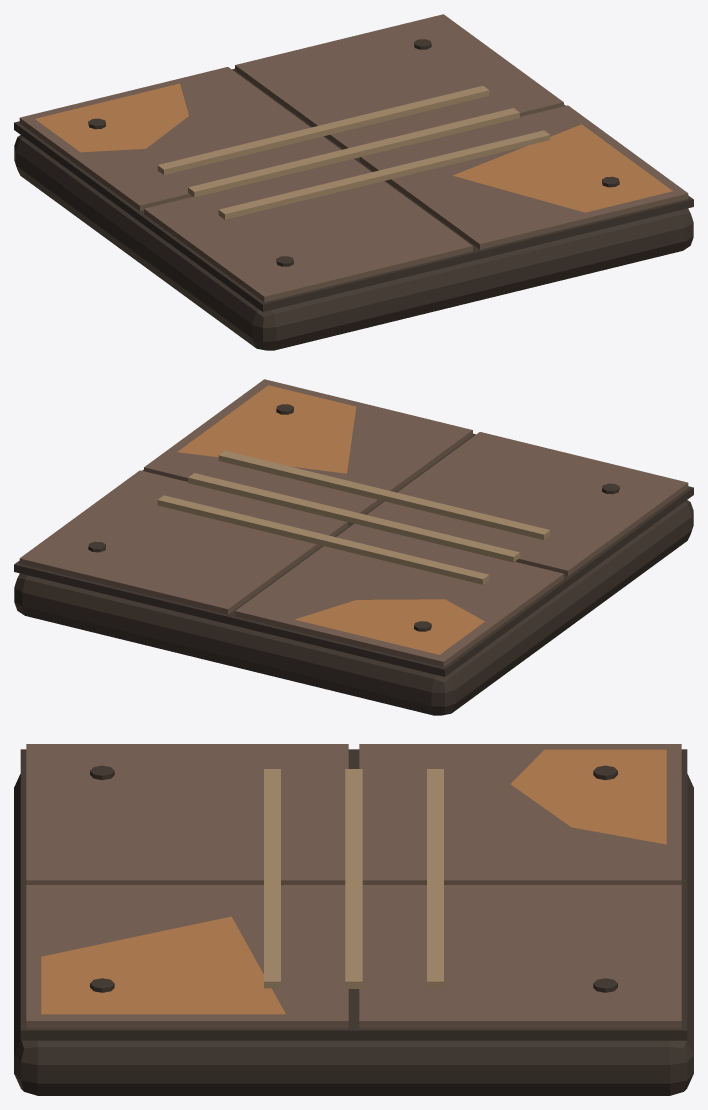
The model's file is foundry_floor_variant.glb.
The picture shows the model from 3 angles, top to bottom: view 1: azimuth 30°, elevation 25°; view 2: azimuth 150°, elevation 25°; view 3: azimuth 270°, elevation 25°; orthographic projection. The views are drawn at different scales.
Parts seen in each view (by area): view 1: foundry_floor_skin; view 2: foundry_floor_skin; view 3: foundry_floor_skin.
Boxes of the visible parts, <box> form: foundry_floor_skin: <box>14,14,693,350</box>; foundry_floor_skin: <box>14,379,693,715</box>; foundry_floor_skin: <box>14,744,693,1095</box>.
Size of the model in its own units: 2 by 0.28 by 2.
